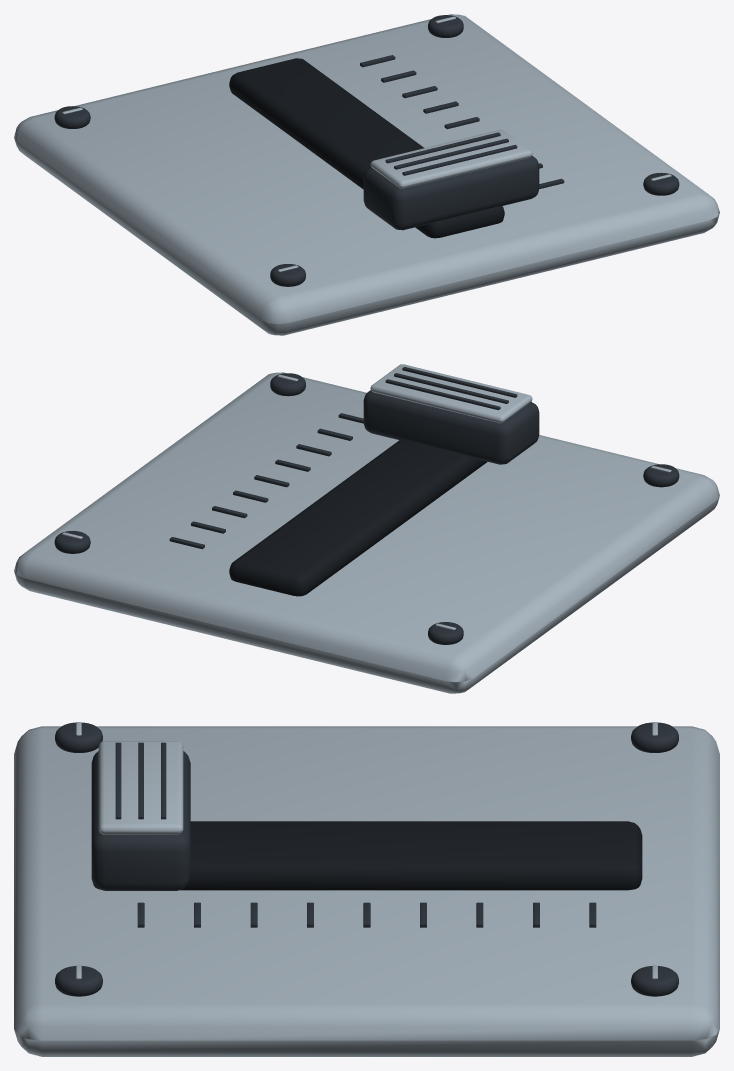
The model's file is fader.glb.
3 renders of one model, top to bottom at view 1: azimuth 30°, elevation 25°; view 2: azimuth 150°, elevation 25°; view 3: azimuth 270°, elevation 25°, orthographic. The views are drawn at different scales.
Visible parts, largest first — view 1: fader_mount, recessed guide, slider carriage, slider cap, mount screw.010, mount screw.009, mount screw.011, mount screw.008, grip rib, grip rib.002, grip rib.001; view 2: fader_mount, recessed guide, slider carriage, slider cap, mount screw.008, mount screw.011, mount screw.009, mount screw.010, grip rib, grip rib.002, grip rib.001; view 3: fader_mount, recessed guide, slider cap, slider carriage, mount screw.010, mount screw.011, mount screw.009, mount screw.008, grip rib.
Part boxes in pixels (bbox=[...]): fader_mount: bbox=[14, 14, 719, 335]; recessed guide: bbox=[229, 58, 504, 238]; slider carriage: bbox=[363, 155, 539, 230]; slider cap: bbox=[370, 129, 532, 188]; mount screw.010: bbox=[643, 172, 679, 195]; mount screw.009: bbox=[54, 106, 90, 128]; mount screw.011: bbox=[428, 15, 463, 37]; mount screw.008: bbox=[270, 264, 305, 286]; grip rib: bbox=[402, 144, 517, 175]; grip rib.002: bbox=[385, 132, 500, 163]; grip rib.001: bbox=[394, 138, 508, 169]; fader_mount: bbox=[14, 372, 719, 693]; recessed guide: bbox=[229, 439, 487, 596]; slider carriage: bbox=[363, 390, 539, 464]; slider cap: bbox=[370, 364, 532, 423]; mount screw.008: bbox=[643, 464, 679, 487]; mount screw.011: bbox=[54, 531, 90, 553]; mount screw.009: bbox=[428, 622, 463, 644]; mount screw.010: bbox=[270, 373, 305, 396]; grip rib: bbox=[402, 367, 517, 397]; grip rib.002: bbox=[385, 379, 500, 410]; grip rib.001: bbox=[394, 373, 508, 403]; fader_mount: bbox=[14, 726, 719, 1056]; recessed guide: bbox=[91, 821, 642, 890]; slider cap: bbox=[98, 741, 183, 834]; slider carriage: bbox=[91, 751, 190, 890]; mount screw.010: bbox=[55, 966, 102, 996]; mount screw.011: bbox=[631, 966, 678, 996]; mount screw.009: bbox=[631, 722, 678, 752]; mount screw.008: bbox=[55, 722, 102, 752]; grip rib: bbox=[115, 742, 121, 819].
Size of the model in its own units: 2.5 by 0.5385 by 2.5.
